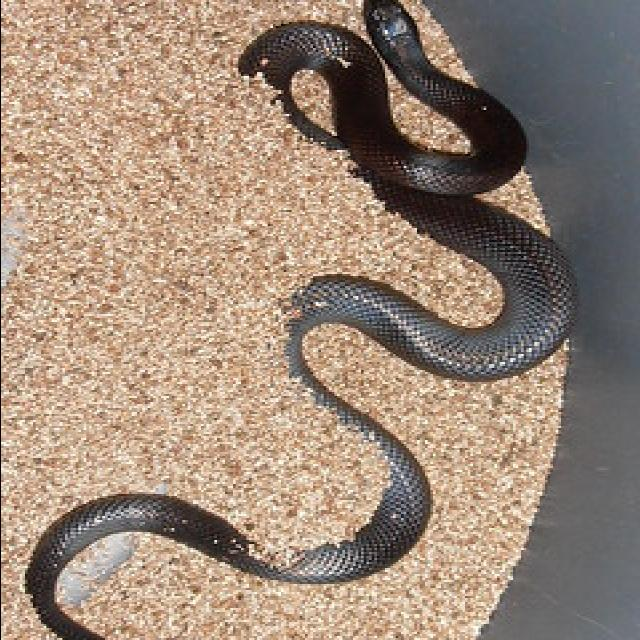Snake: (24, 0, 582, 640)
